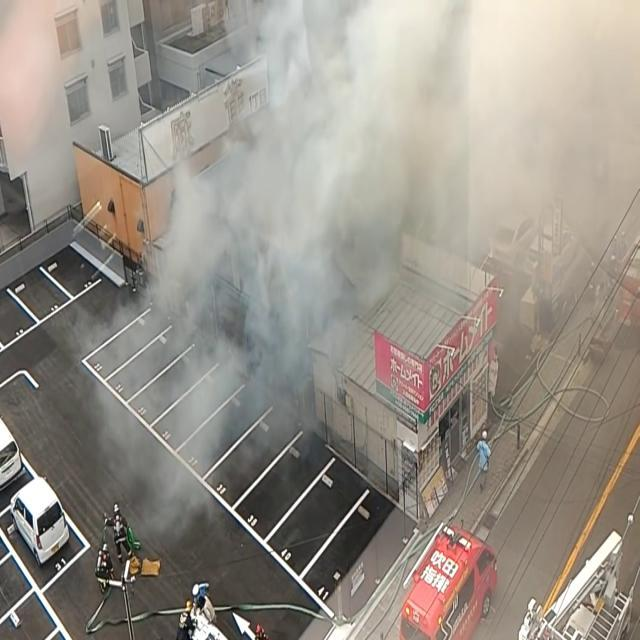Smoke: (135, 0, 639, 403), (139, 0, 383, 440)
